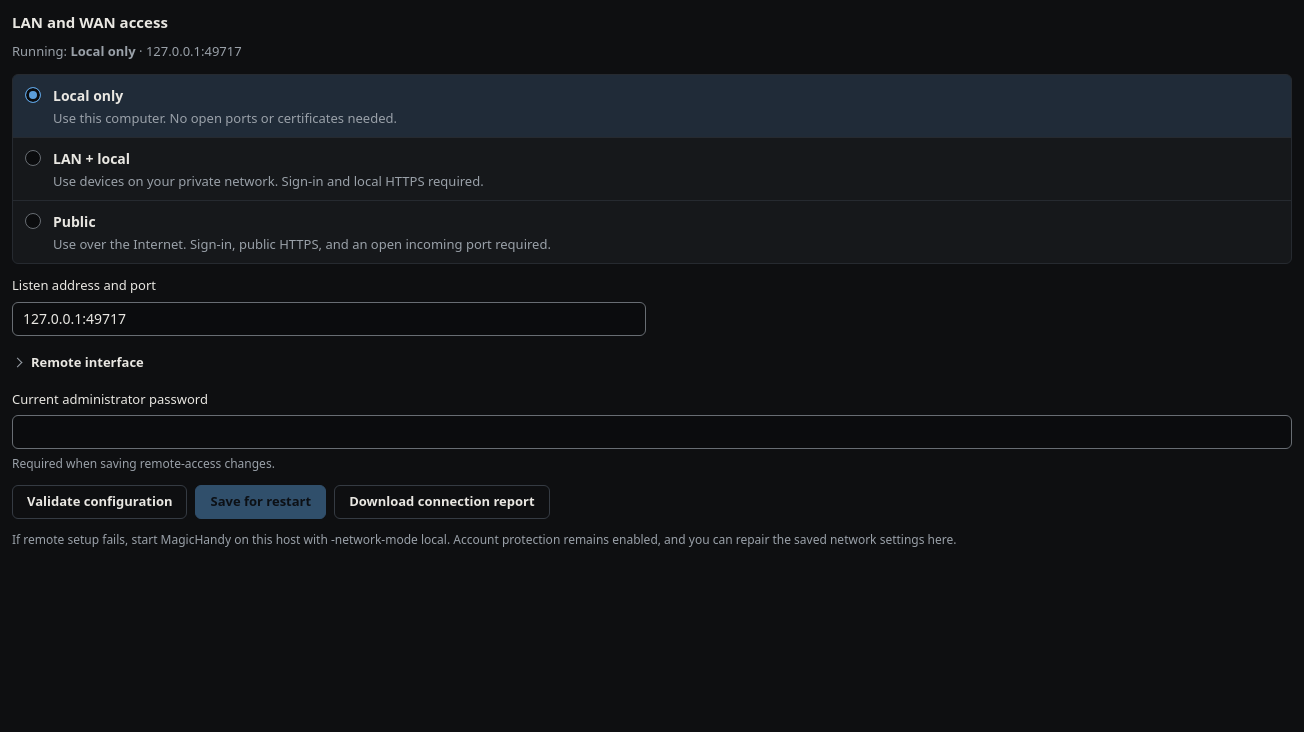
Test: network access settings › requires host validation and password confirmation, and invalidates validation after edits
Expected: the radio button labelled "Local only" is shown, [25,87,41,103]
Expected: the button "Save for restart" is disabled, [196,485,326,519]
Type "review-only password" into the password field labelled "Current administrator password" at (652, 432), box [12,415,1292,449]
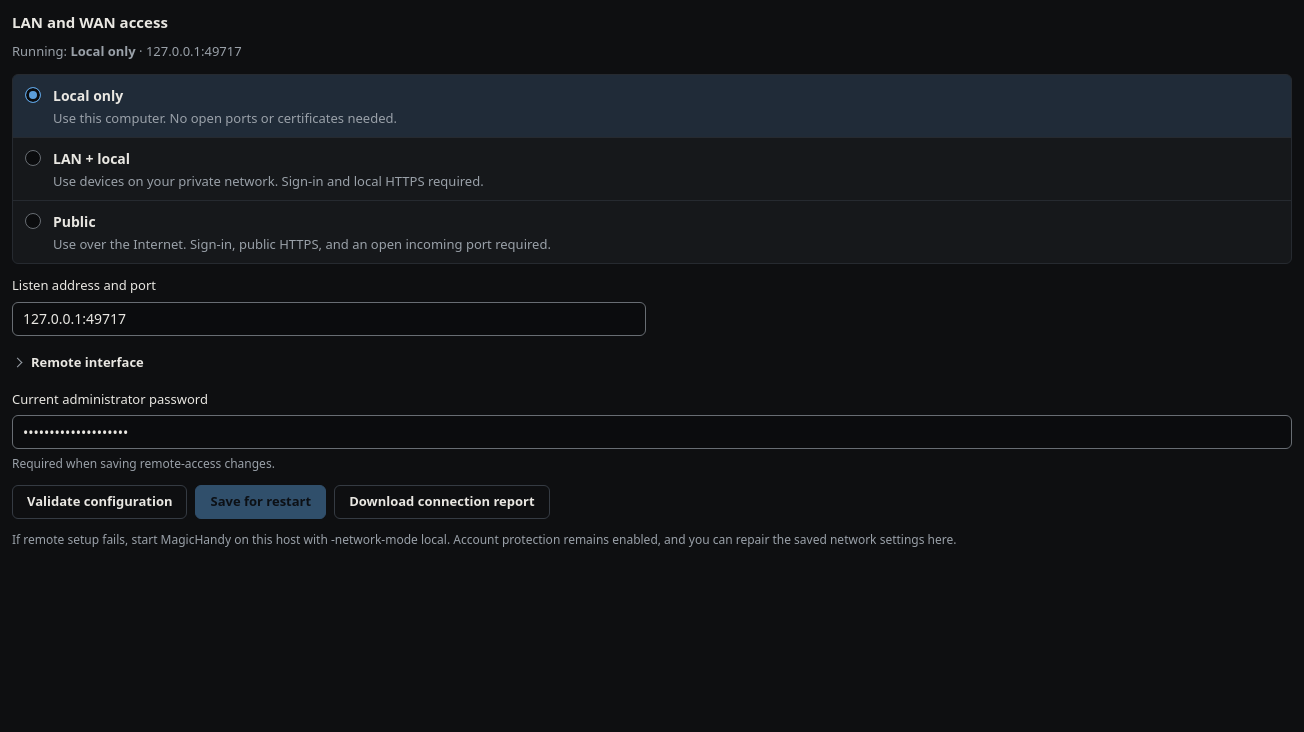
Click the button "Validate configuration" at (100, 502), box [12,485,188,519]
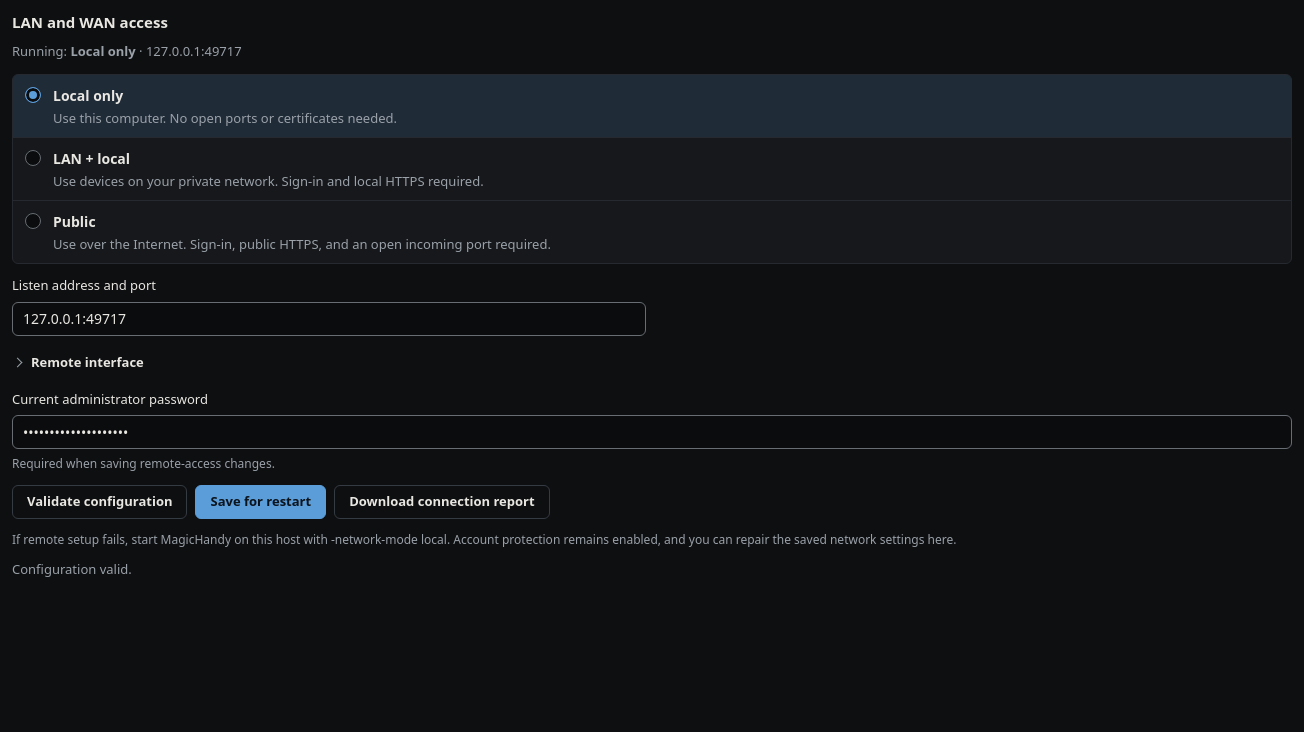
Now the button "Save for restart" is enabled, box [196,485,326,519]
Replace the text in the field labelled "Listen address and port" with "127.0.0.1:49718" at (329, 319), box [12,302,646,336]
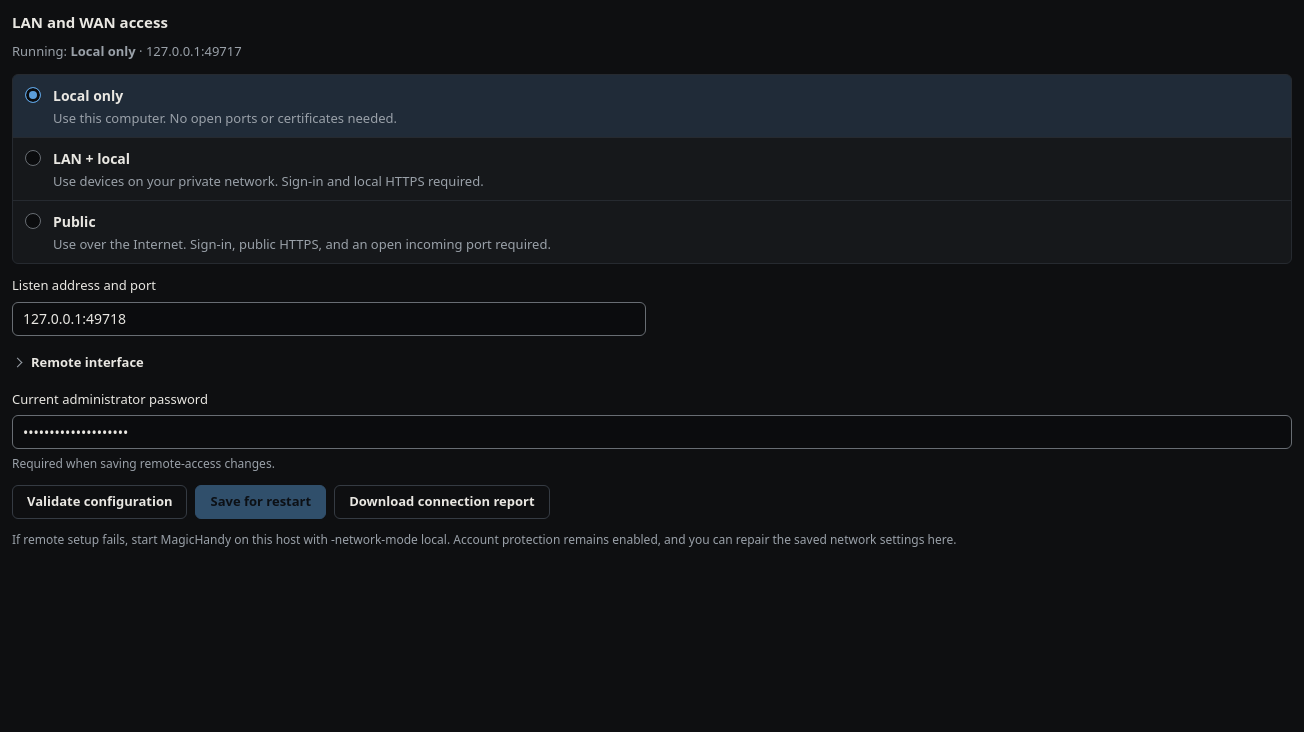
Now the button "Save for restart" is disabled, box [196,485,326,519]
Click the button "Validate configuration" at (100, 502), box [12,485,188,519]
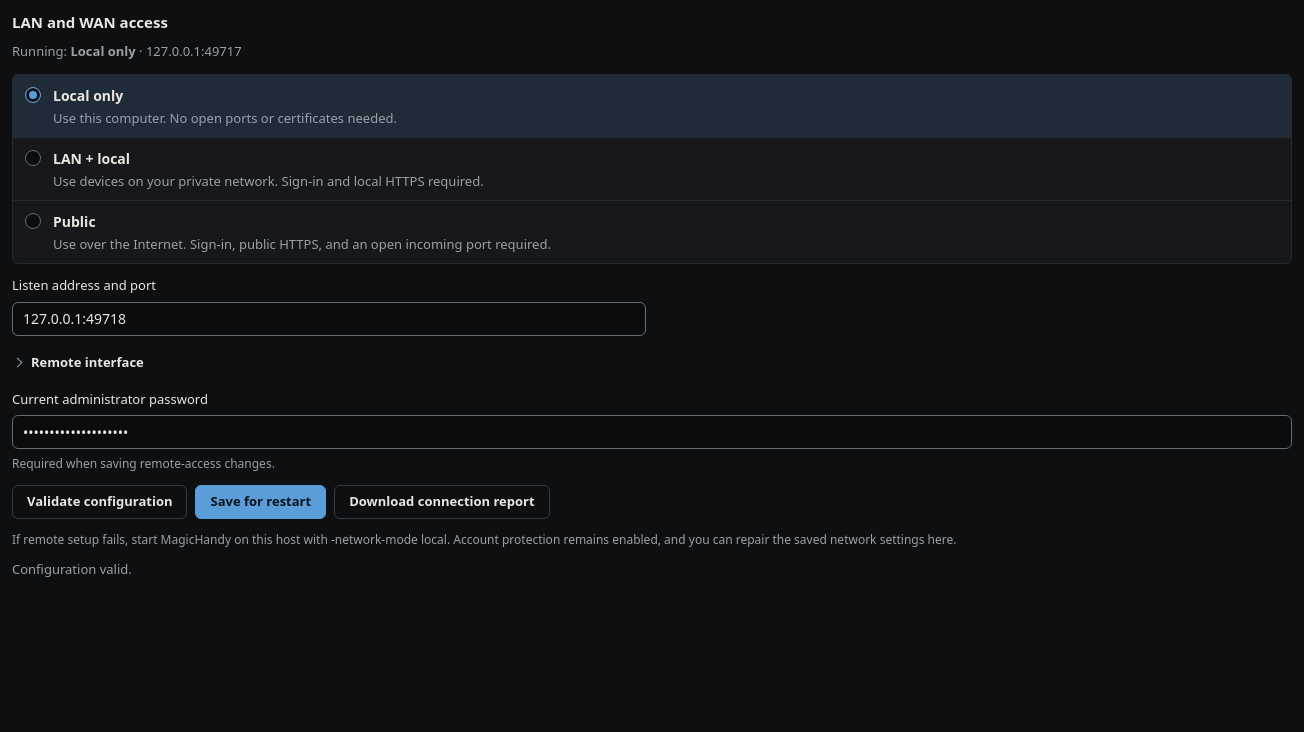
Now the button "Save for restart" is enabled
Click the button "Save for restart" at (261, 502), box [196,485,326,519]
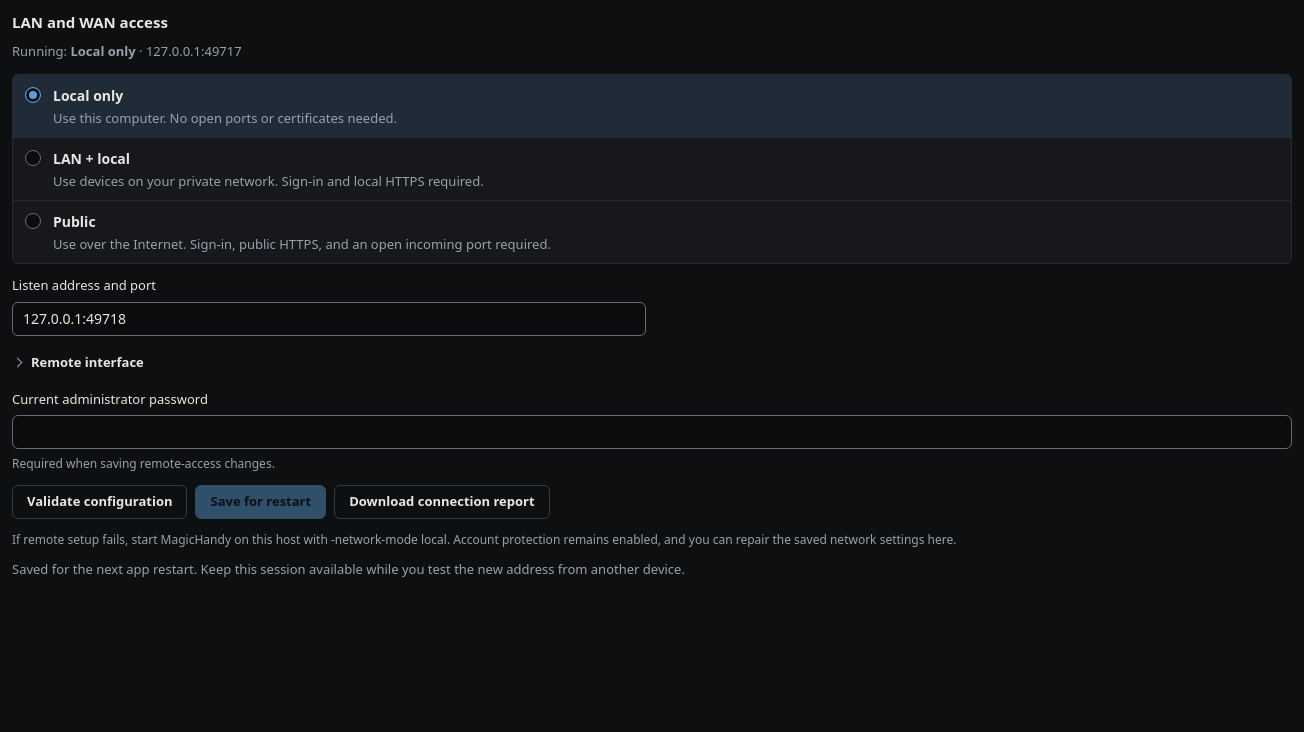
Now the password field labelled "Current administrator password" is empty, box [12,415,1292,449]
Now the text "Saved for the next app restart" is shown, box [12,560,685,578]
